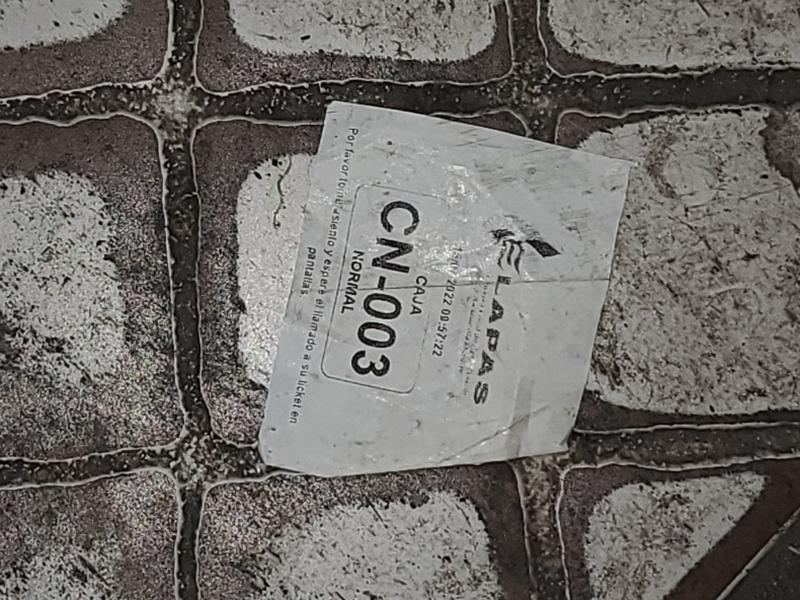papel: (259, 103, 631, 480)
